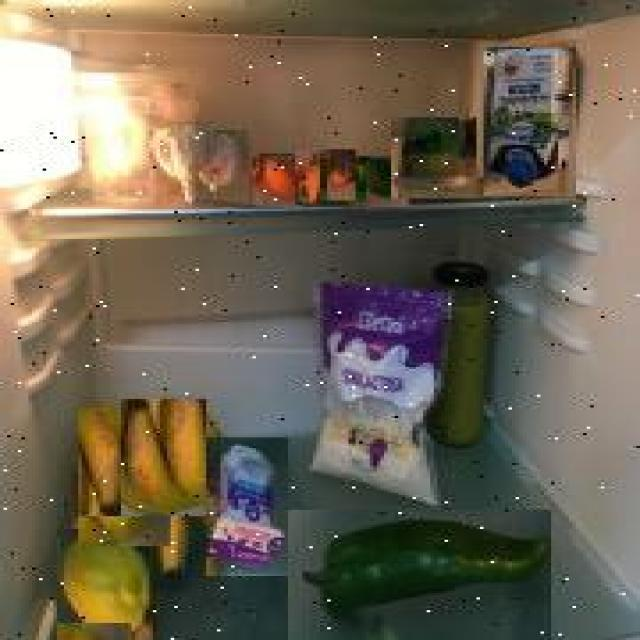banana: (78, 408, 171, 546), (121, 398, 206, 516)
bell_pepper: (290, 510, 553, 640), (348, 156, 409, 207)
carrot: (254, 154, 304, 208), (295, 150, 331, 204), (320, 150, 356, 202)
garlic: (150, 121, 210, 208), (195, 131, 249, 204)
grated_cheese: (311, 273, 443, 504)
guacamole: (391, 118, 477, 198)
heavy_cream: (484, 46, 576, 196)
lemon: (57, 529, 153, 640)
yogurt: (206, 437, 288, 576)
